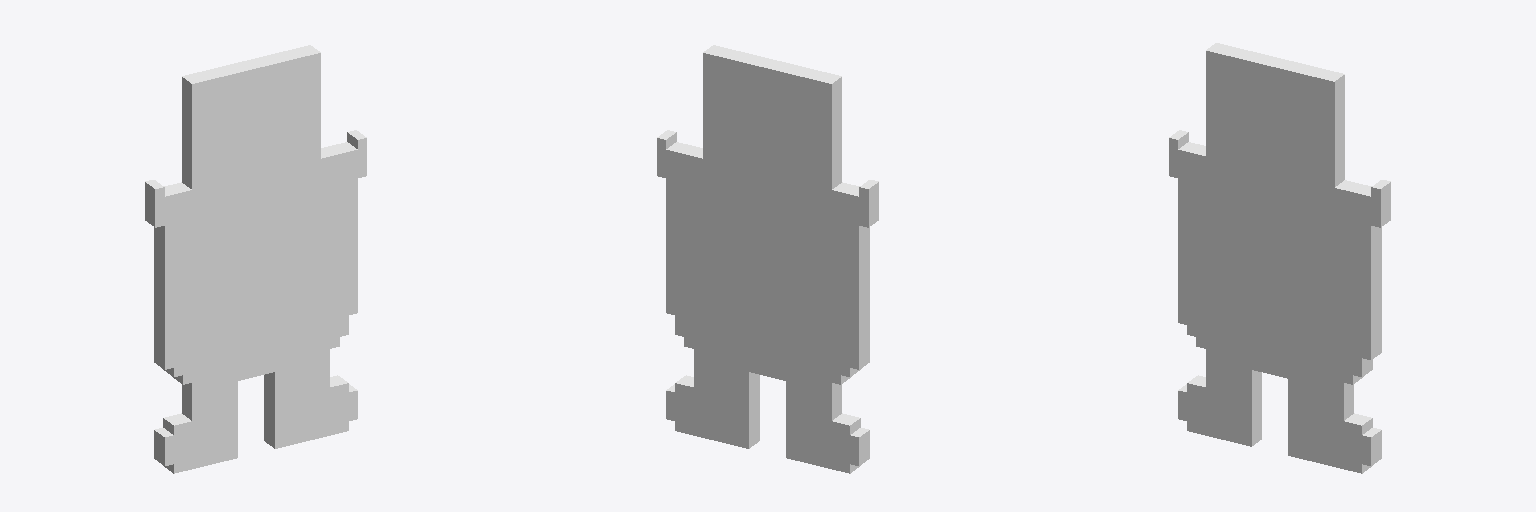
The model's file is Mubo.obj.
The picture shows the model from 3 angles: view 1: azimuth 30°, elevation 25°; view 2: azimuth 150°, elevation 25°; view 3: azimuth 330°, elevation 25°; orthographic projection.
Visible parts, largest first — view 1: object 1; view 2: object 1; view 3: object 1.
Part boxes in pixels (x1,y1,x2,y2): object 1: (145, 45, 366, 473); object 1: (657, 45, 878, 473); object 1: (1169, 43, 1390, 473).
Size of the model in its own units: 2.3 by 4 by 0.2.